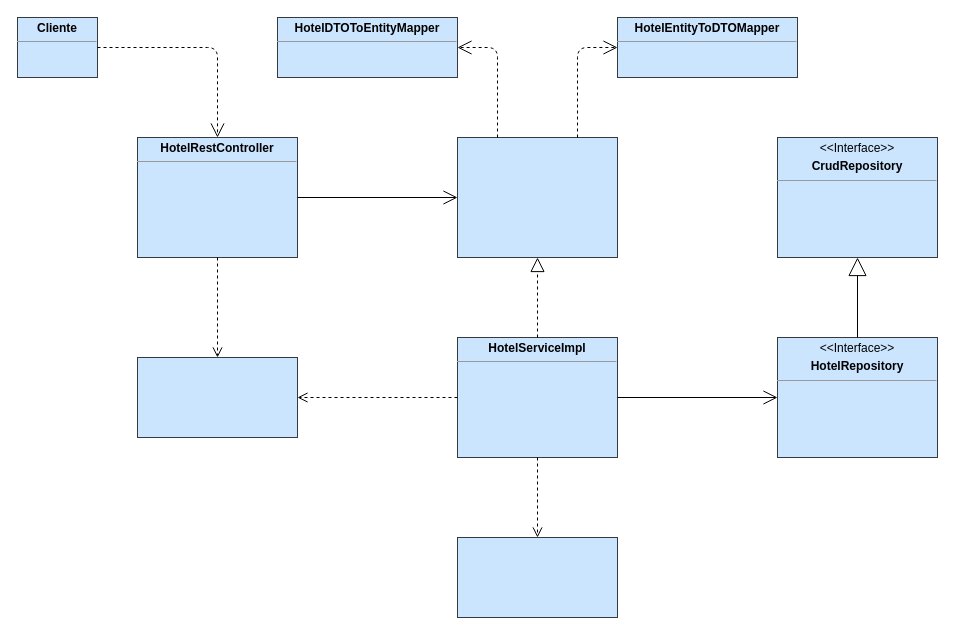
This 955x635 diagram has some shape labels left out. Each missing label, with the centre of its shape:
"<<Interface>> HotelService" belongs at [537,197].
"Hotel" belongs at [537,577].
"HotelDTO" belongs at [217,397].
